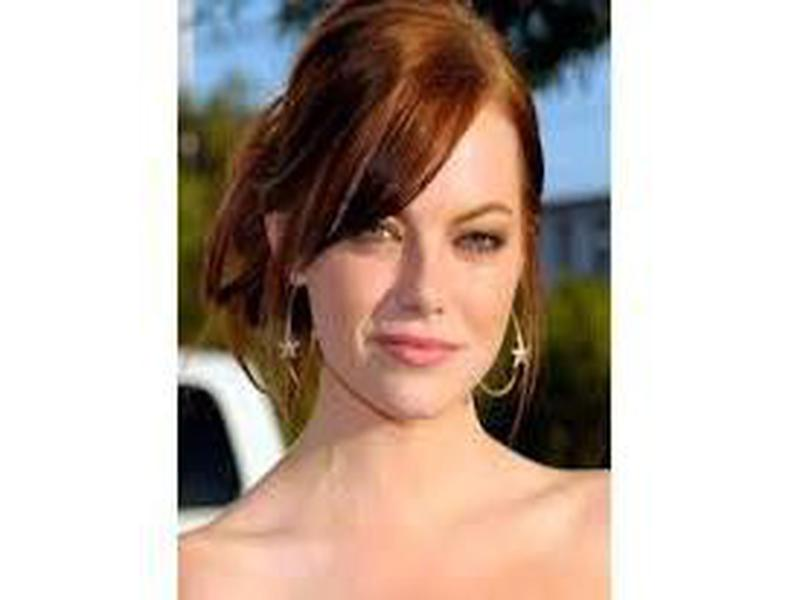without_mask: (300, 151, 523, 418)
